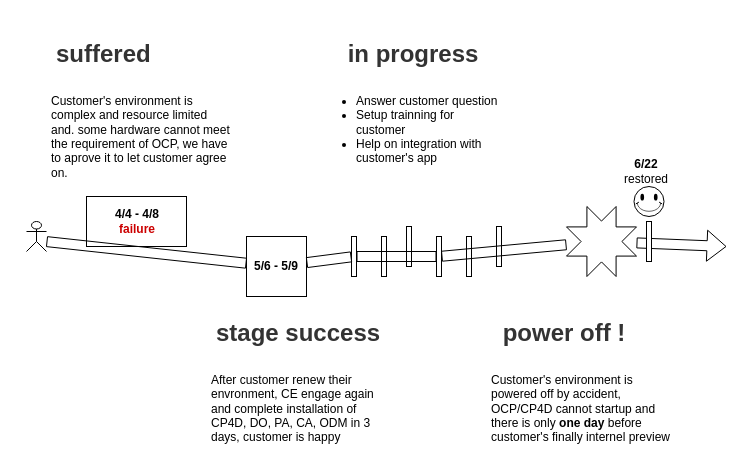
Image size: 744x473. Some labels were removed from this diagram. Here are the shapes that lost their labels. From the top down, the centre of each, then its label:
At point (36, 236): "CE guy".
At point (601, 241): "6/21 Accident".
